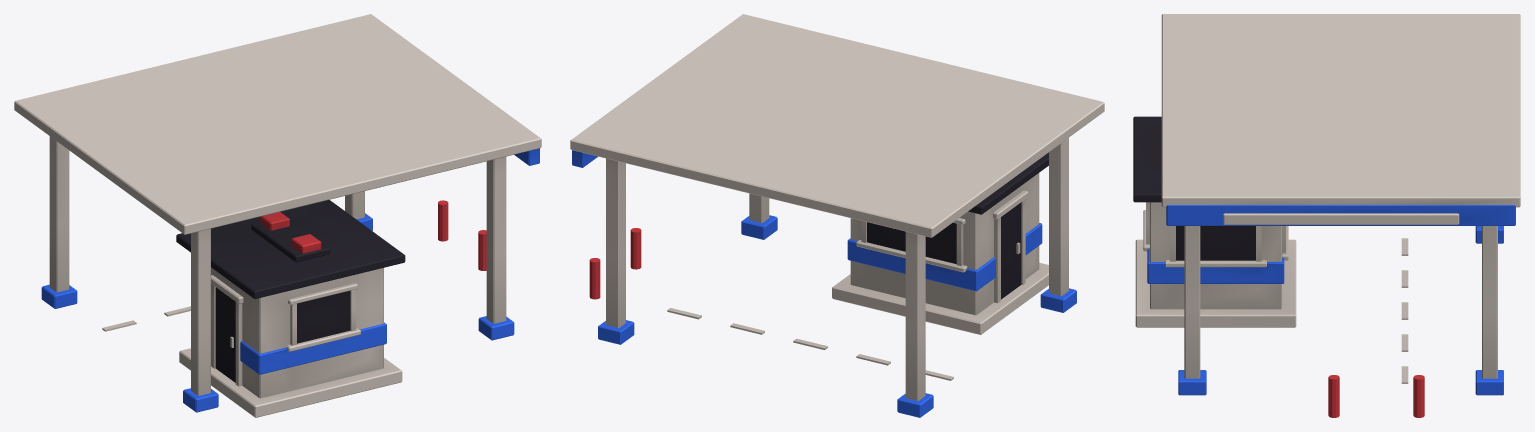
3 renders of one model, left to right at view 1: azimuth 30°, elevation 25°; view 2: azimuth 150°, elevation 25°; view 3: azimuth 270°, elevation 25°, orthographic. The views are drawn at different scales.
Parts seen in each view (by area): view 1: body_pal_picketWhite, body_pal_uiDark, body_pal_policeBlue, body_pal_survivorRed; view 2: body_pal_picketWhite, body_pal_policeBlue, body_pal_uiDark, body_pal_survivorRed; view 3: body_pal_picketWhite, body_pal_policeBlue, body_pal_uiDark, body_pal_survivorRed.
Boxes of the visible parts, <box> form: body_pal_picketWhite: <box>14,14,541,417</box>; body_pal_uiDark: <box>176,199,405,382</box>; body_pal_policeBlue: <box>41,148,539,412</box>; body_pal_survivorRed: <box>260,200,486,270</box>; body_pal_picketWhite: <box>570,14,1104,400</box>; body_pal_policeBlue: <box>572,150,1076,417</box>; body_pal_uiDark: <box>867,152,1048,299</box>; body_pal_survivorRed: <box>589,228,641,299</box>; body_pal_picketWhite: <box>1135,14,1520,383</box>; body_pal_policeBlue: <box>1147,205,1515,395</box>; body_pal_uiDark: <box>1133,116,1255,260</box>; body_pal_survivorRed: <box>1328,375,1424,417</box>.
Size of the model in its own units: 9.91 by 4.88 by 8.2.
